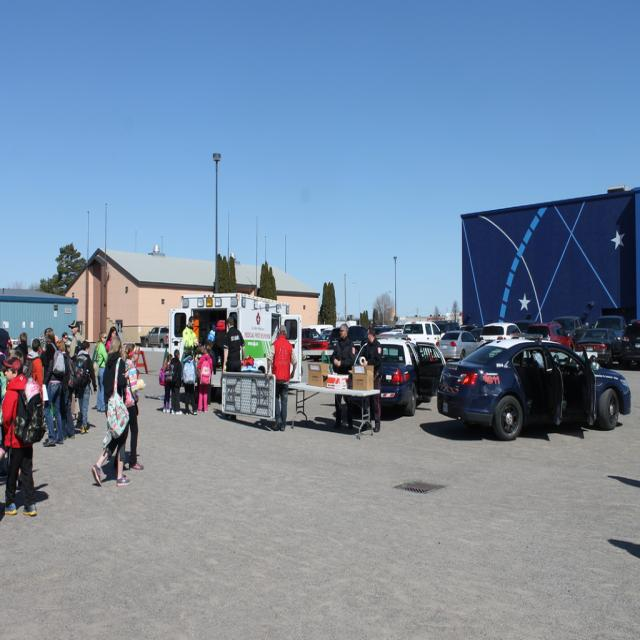Passenger Car: (436, 339, 632, 442), (382, 338, 437, 421)
Pedestrians: (90, 336, 130, 488), (2, 360, 40, 516), (124, 341, 146, 470)
